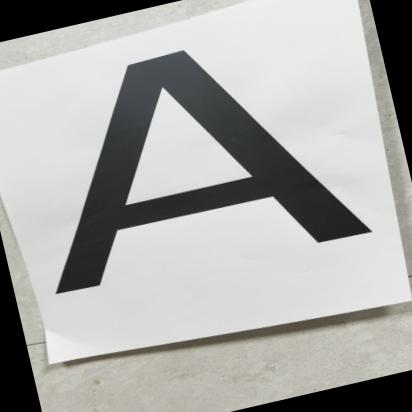seat: (0, 0, 390, 338)
